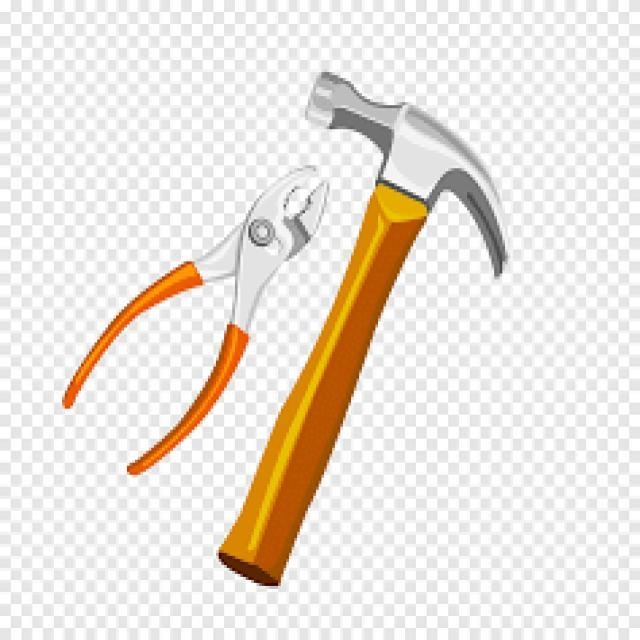hammer: (207, 60, 524, 607)
pliers: (45, 153, 340, 487)
